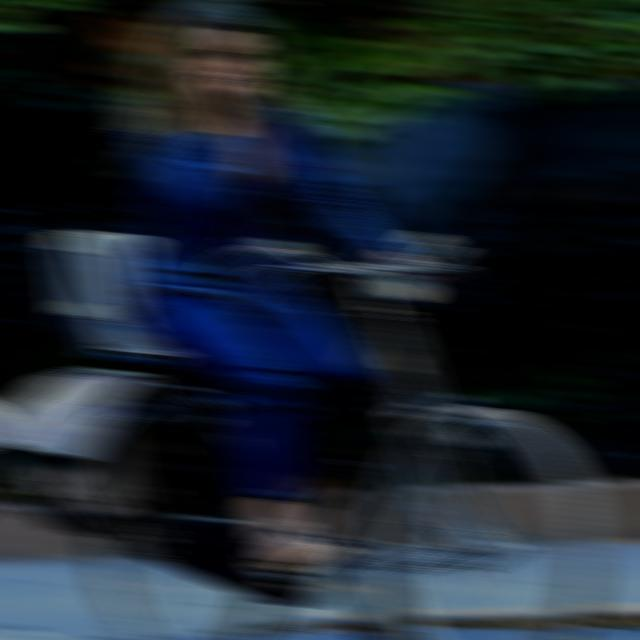Without Helmet: (152, 0, 297, 118)
